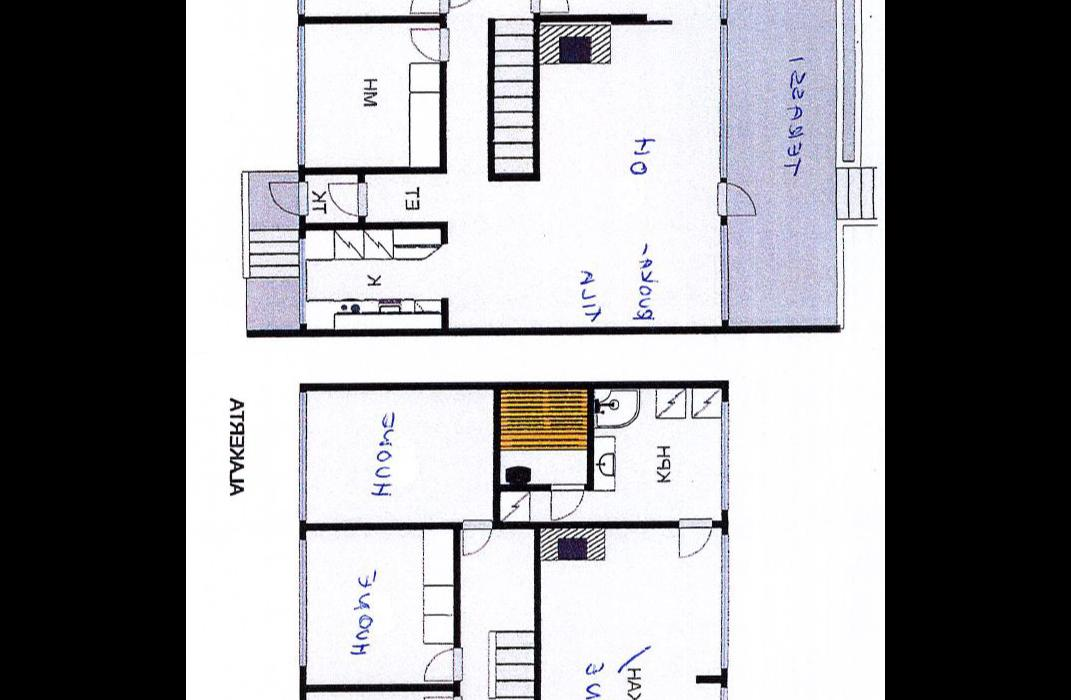door: (672, 514, 714, 560), (407, 23, 454, 61), (546, 480, 588, 520), (716, 178, 757, 218), (265, 178, 310, 214), (422, 645, 465, 682), (327, 178, 368, 216), (460, 516, 493, 558), (525, 0, 572, 13), (409, 0, 447, 12), (420, 692, 466, 700), (447, 0, 484, 9)
window: (713, 18, 731, 183), (713, 215, 734, 326), (294, 531, 310, 674), (293, 383, 309, 525), (719, 526, 733, 674), (716, 392, 732, 516), (296, 17, 306, 170), (296, 230, 308, 328)
